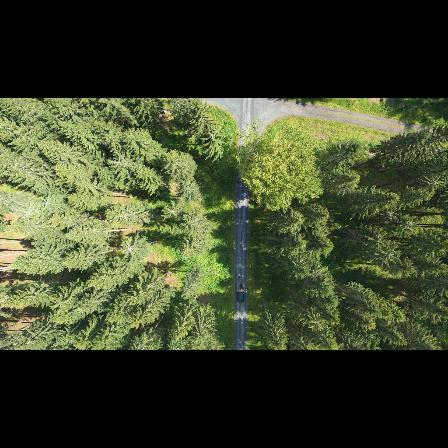Sick: (120, 238, 138, 257)
